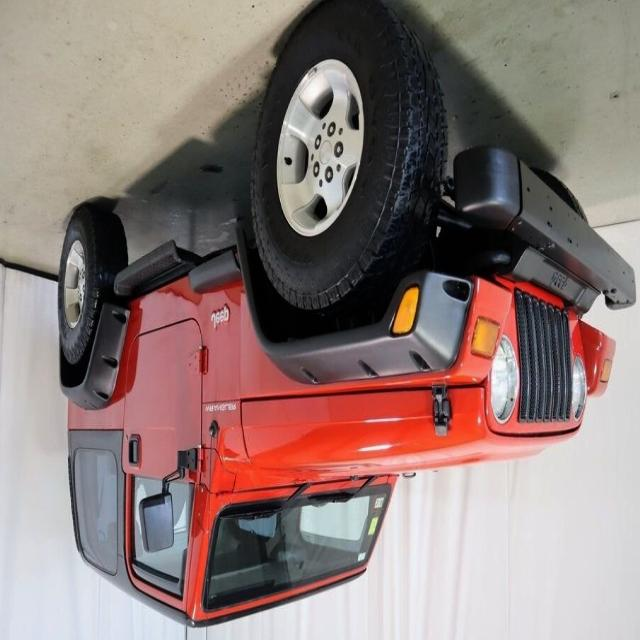red: (64, 91, 640, 632)
